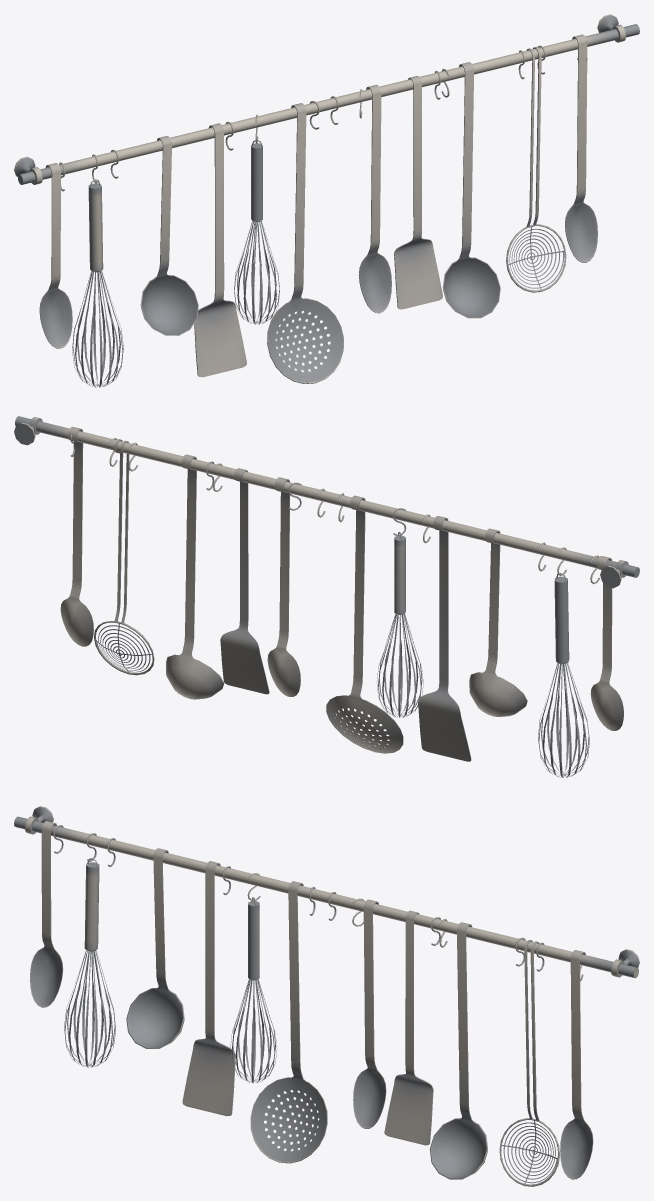
Rendered from SM_Utensils_01.glb.
3 renders of one model, top to bottom at view 1: azimuth 30°, elevation 25°; view 2: azimuth 150°, elevation 25°; view 3: azimuth 330°, elevation 25°, orthographic.
Visible parts, largest first — view 1: SM_Utensils_01; view 2: SM_Utensils_01; view 3: SM_Utensils_01.
Boxes of the visible parts, x1,y1,x2,y2 form: SM_Utensils_01: [14, 14, 639, 387]; SM_Utensils_01: [14, 416, 639, 777]; SM_Utensils_01: [14, 806, 639, 1186].
Bounding box in the file's own units: 1.29 × 0.5392 × 0.1042.
1 material, 1 textured.
